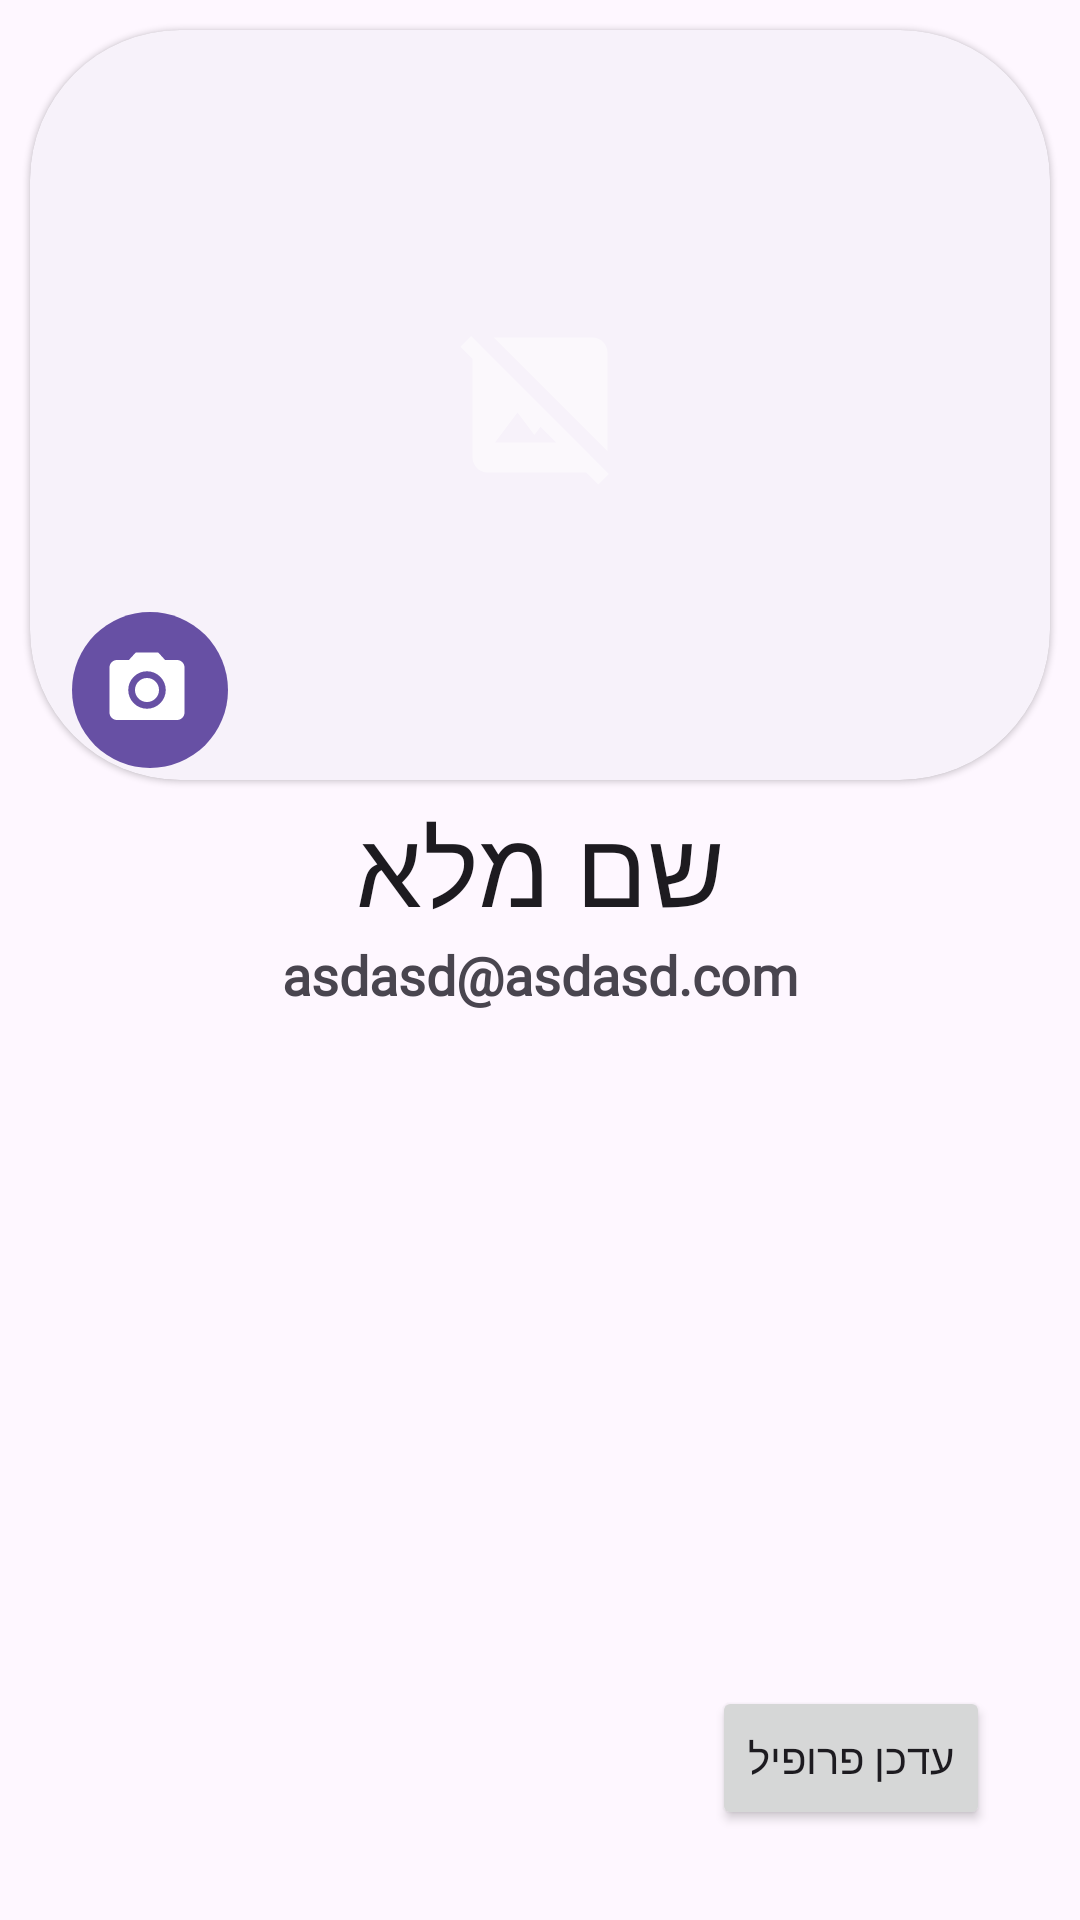

Screen size 1080w x 1920h. Icon name, then its center in pixels as [x,y]:
camera: [150,690]
